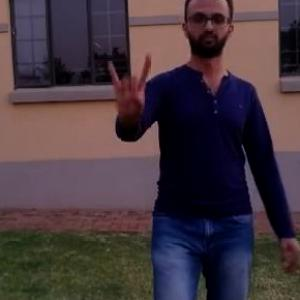takeoff-hand: (97, 47, 153, 122)
